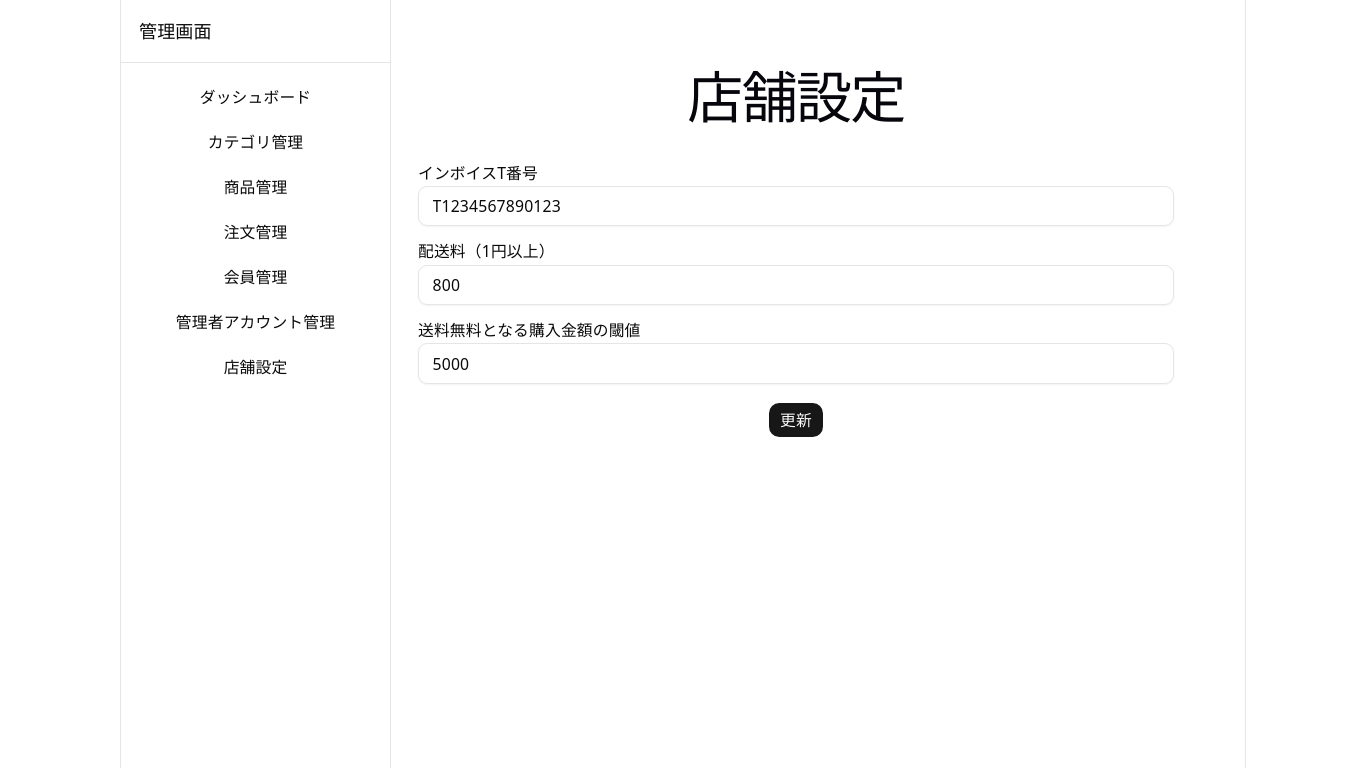
Test case: AdminStoreSettingsPage › PUT失敗時、エラーメッセージを表示すること
Replace the text in the number field labelled "配送料（1円以上）" with "1000" at x=796, y=285, box x1=418 y1=265 x2=1174 y2=305
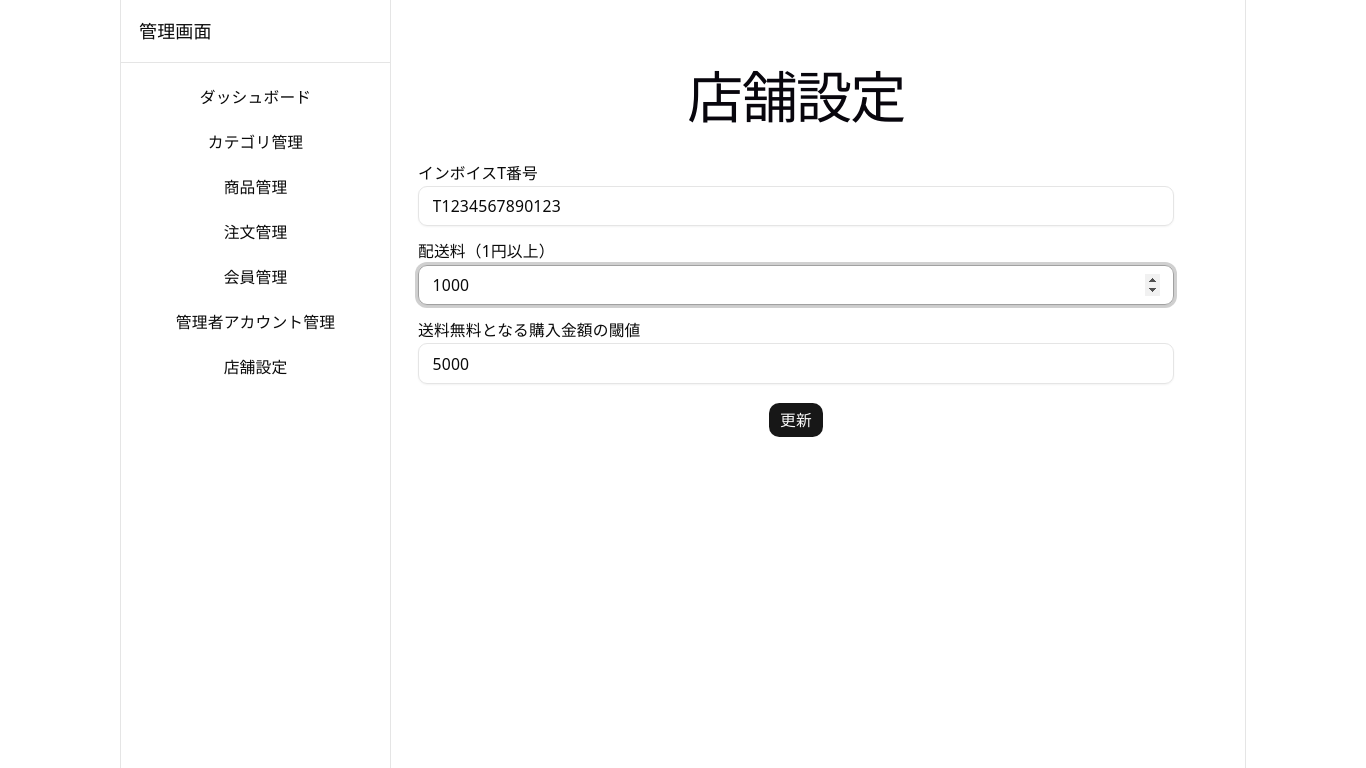
Click the button "更新" at x=796, y=420, box x1=768 y1=402 x2=824 y2=438
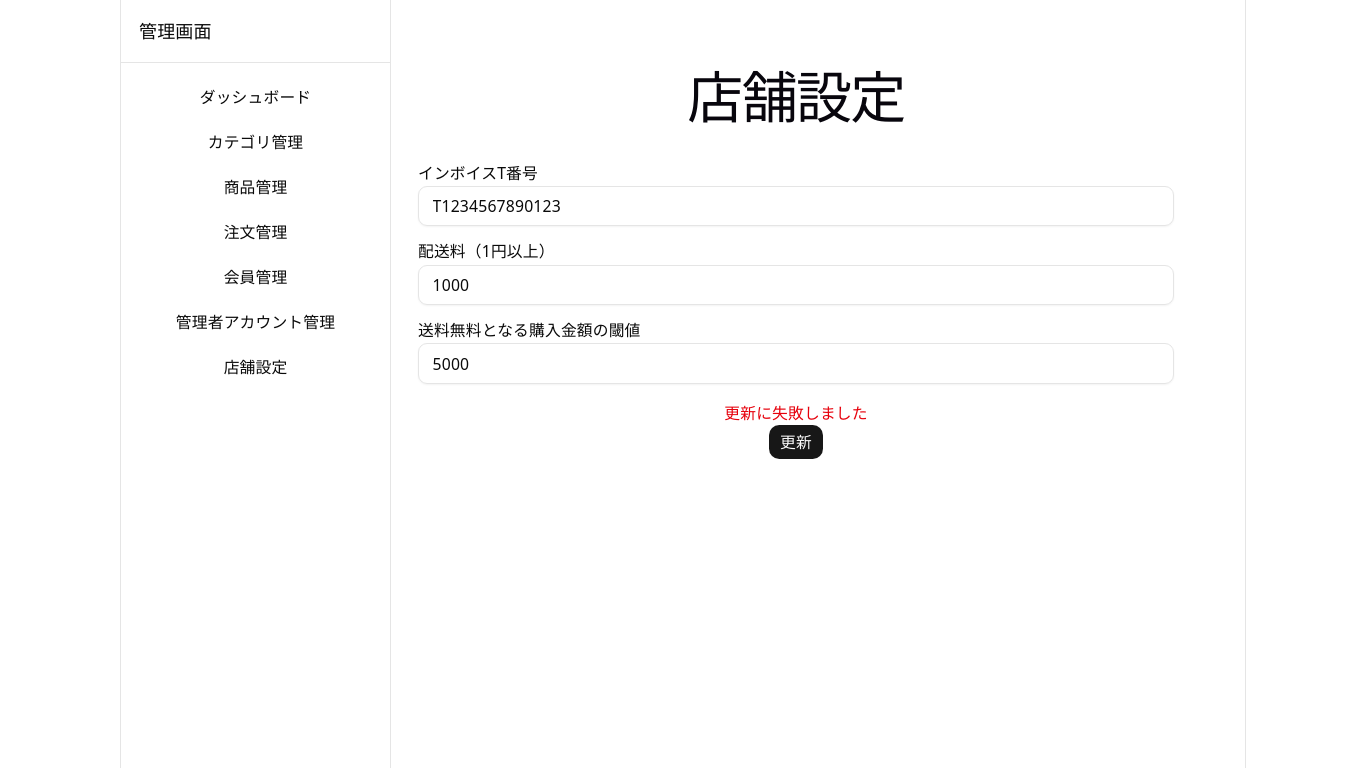
Now the text "更新に失敗しました" is shown, box x1=724 y1=402 x2=868 y2=424
